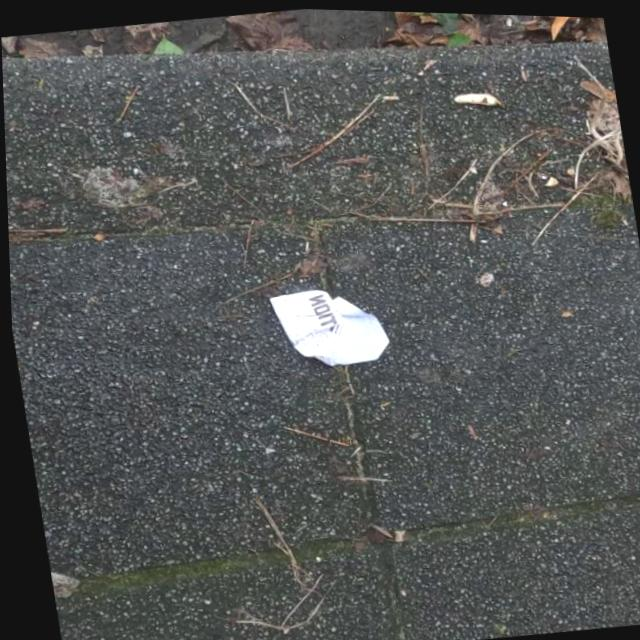Paper: (263, 277, 391, 376)
